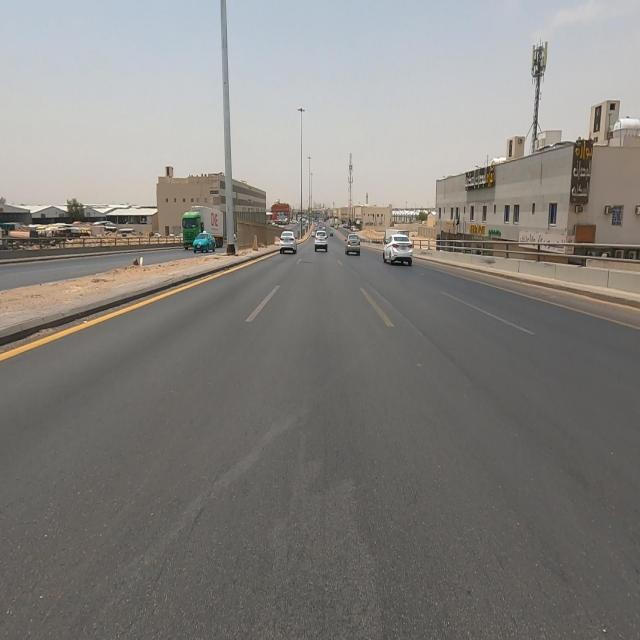debris: (116, 228, 160, 288)
